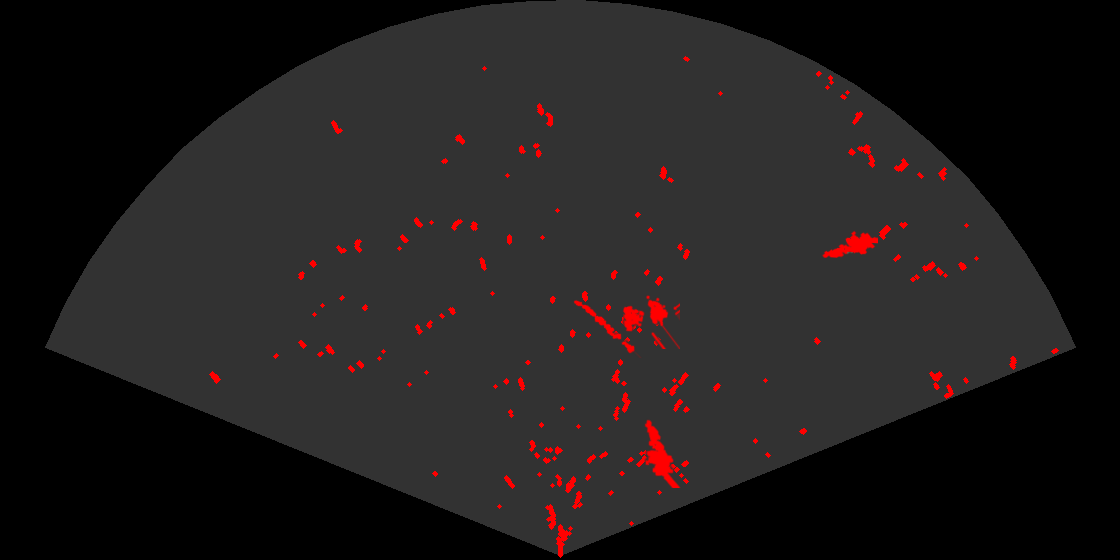cage: (621, 294, 680, 349)
chain: (572, 298, 643, 358)
frogman: (643, 418, 682, 488), (821, 229, 878, 259)
